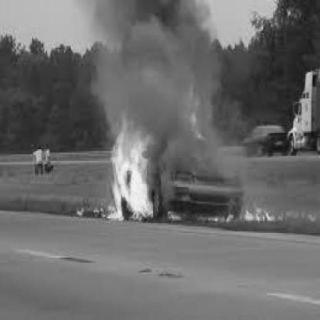Fire: (94, 104, 152, 221), (164, 208, 236, 226), (240, 201, 278, 228), (182, 89, 202, 132), (73, 204, 83, 216)
Smoke: (86, 4, 220, 112)
